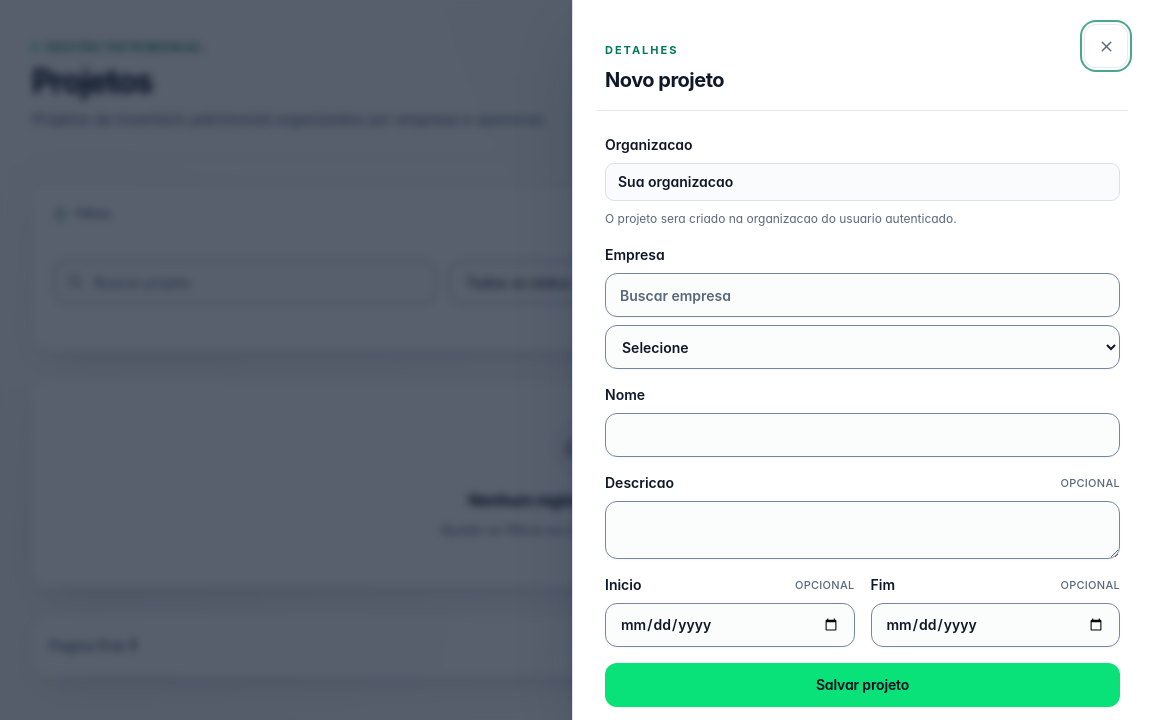
ProjectsPage › mapeia erro 422 do backend no campo sem perder o formulario
Select "Empresa Alpha" in the dropdown named "Empresa": {"x": 862, "y": 347} [605, 325, 1120, 369]
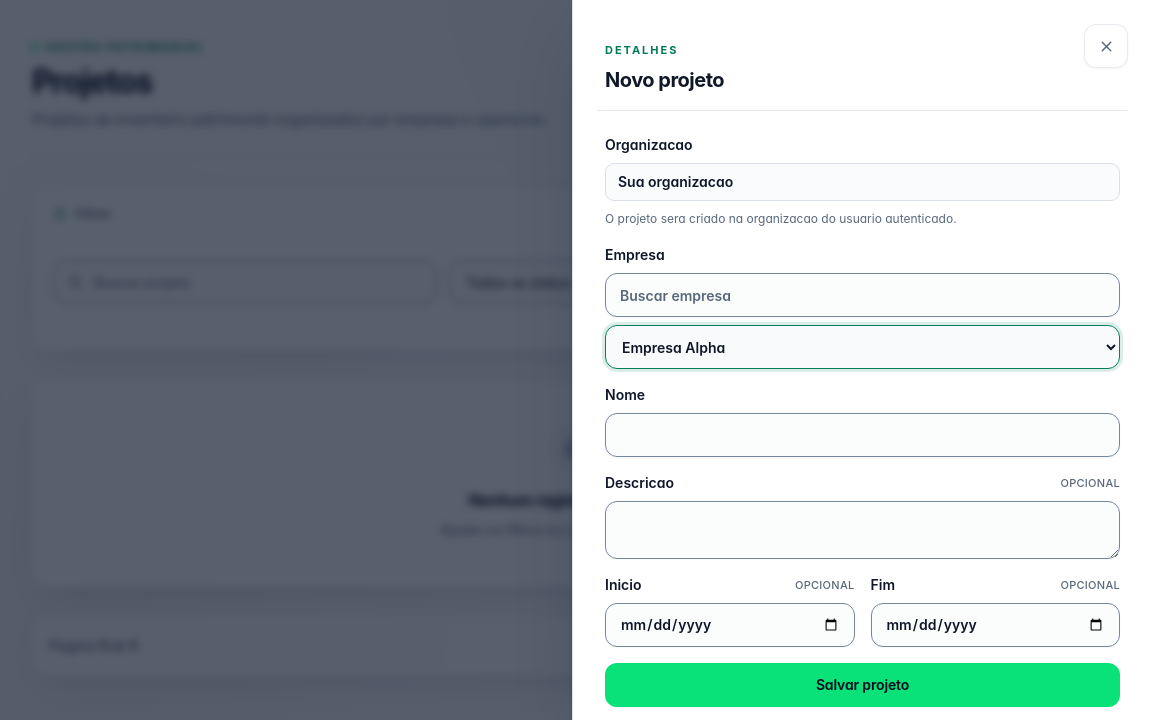
In the field labelled "Nome": {"x": 862, "y": 435} [605, 413, 1120, 457], type "Projeto Repetido"
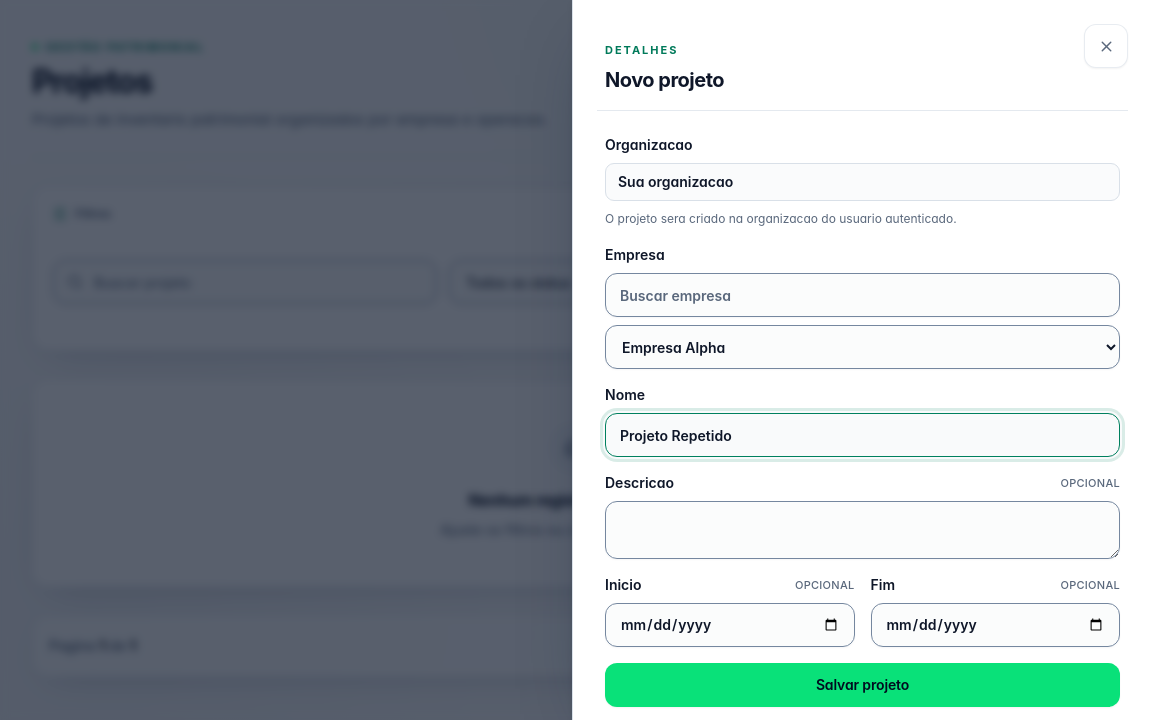
Click the button "Salvar projeto": {"x": 862, "y": 685} [605, 663, 1120, 707]
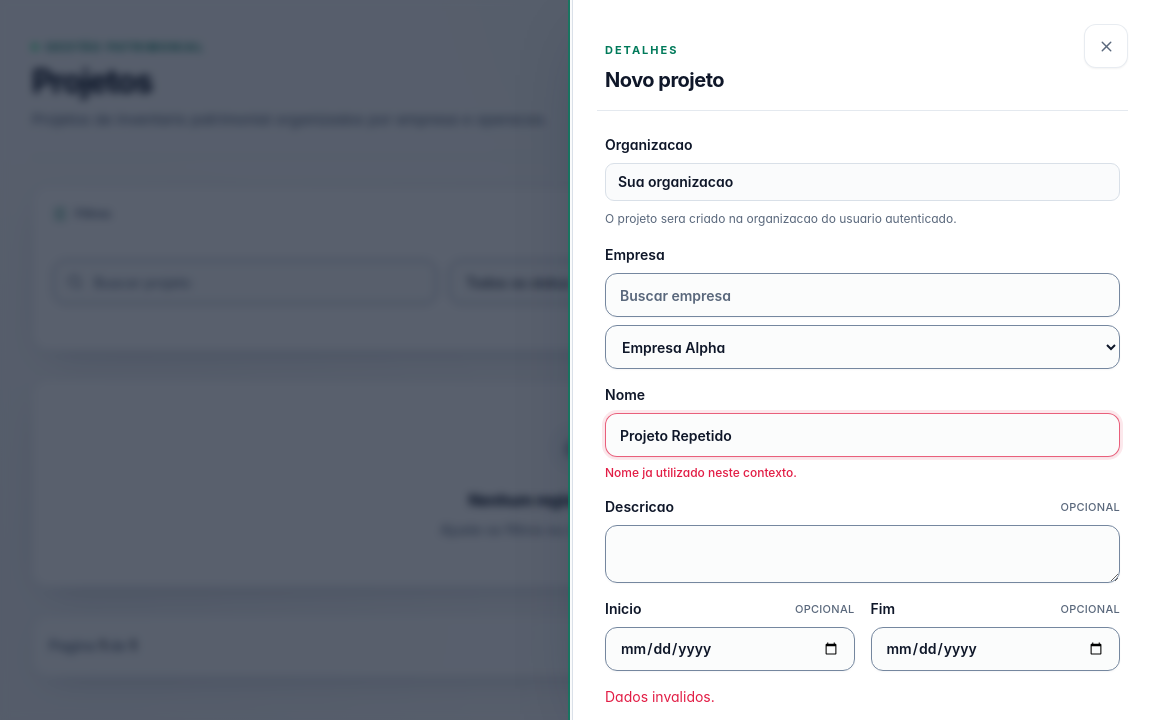
Check: the text "Nome ja utilizado neste contexto." is shown, box [605, 465, 797, 480]
